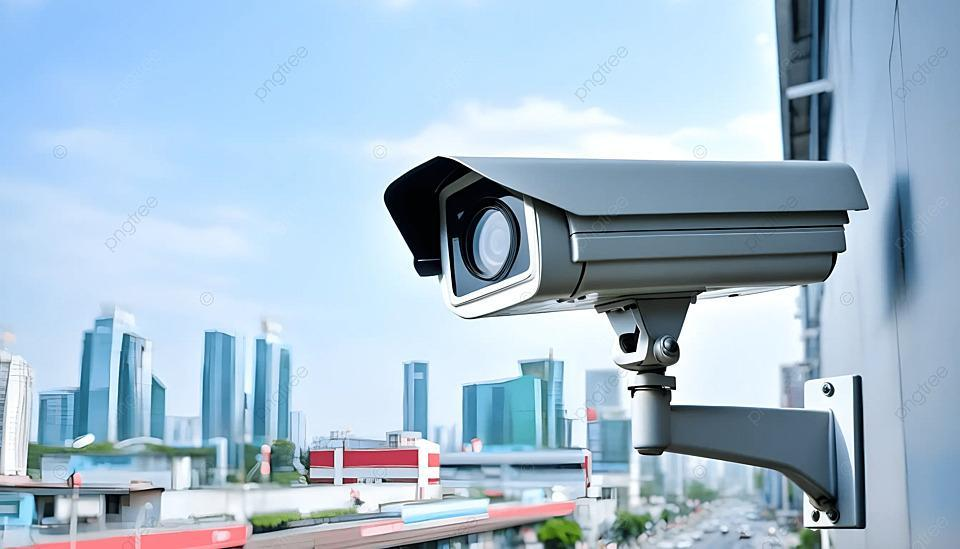------------------------------: (377, 139, 871, 320)
